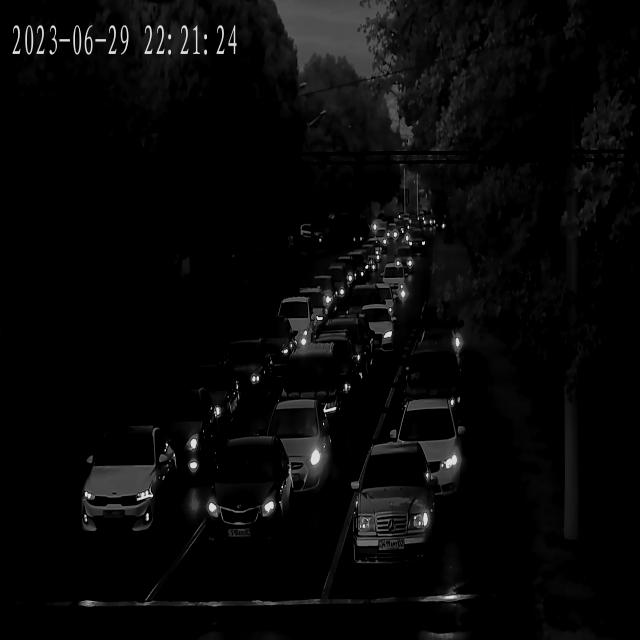Car: (74, 426, 176, 545), (348, 439, 436, 570), (195, 438, 294, 551), (379, 398, 467, 506), (249, 400, 335, 496), (140, 388, 221, 482), (264, 343, 346, 432), (171, 362, 242, 439), (396, 348, 465, 426), (298, 337, 366, 402), (312, 319, 374, 379), (217, 341, 273, 405), (248, 321, 304, 374), (341, 303, 395, 355), (272, 297, 320, 340), (352, 282, 396, 325), (304, 274, 349, 314), (289, 286, 331, 322), (372, 271, 409, 309), (332, 254, 371, 286), (318, 264, 353, 293), (348, 249, 376, 274), (391, 252, 417, 276), (404, 232, 428, 255), (354, 238, 379, 259)
